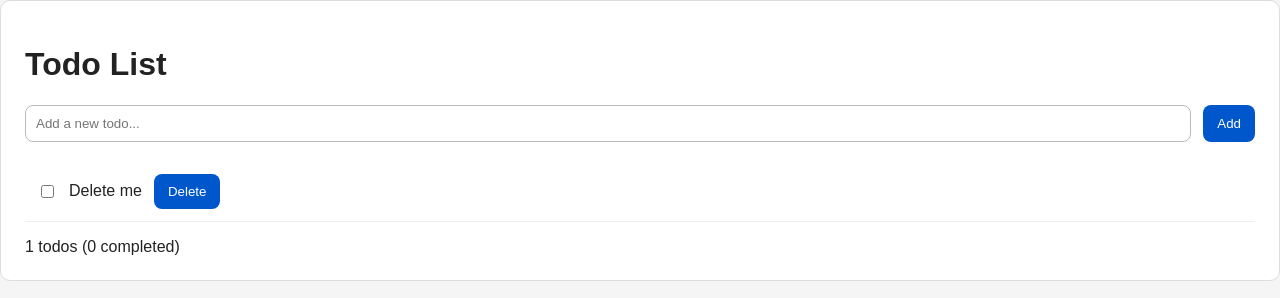
Test: TodoList Component › Deleting todos › deletes a todo
Click the button with test id "delete-button" at (187, 191), box 154,174 -> 220,209
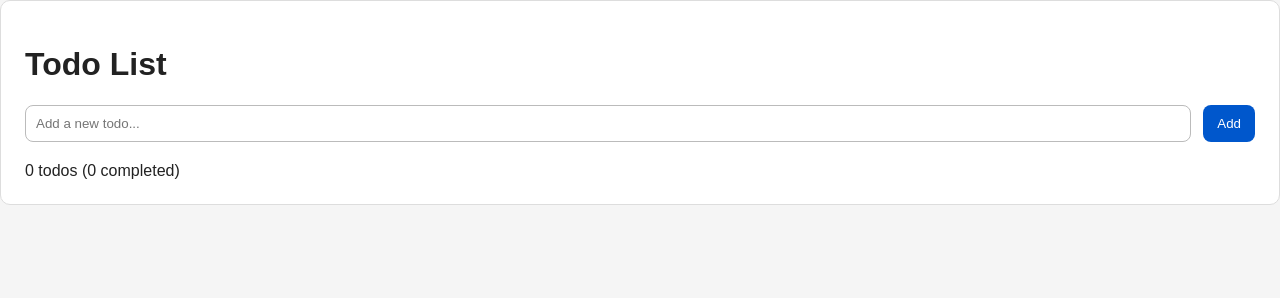
Check: the text "Delete me" is gone
Check: the text "0 todos (0 completed)" is shown, box 25,162 -> 180,179
